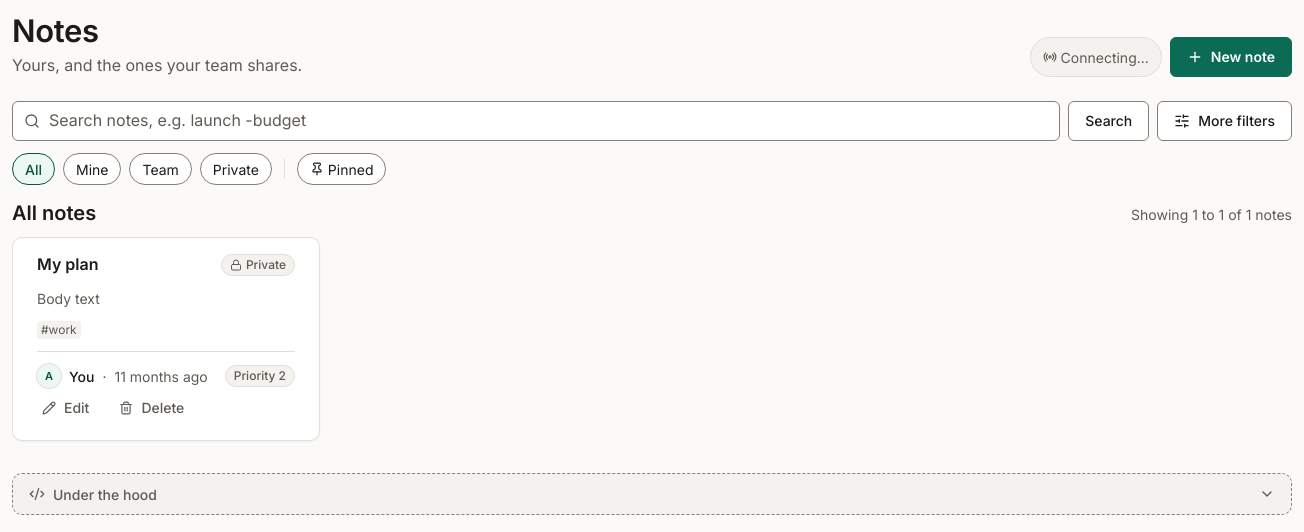
Test: NotesPage › searches with the rpc and renders the snippet safely with <mark>
Check: the heading "My plan" is shown, box [37,254,98,276]
Type "plan" into the search field named "Full-text search". click: (536, 121)
box: [12,101,1060,141]
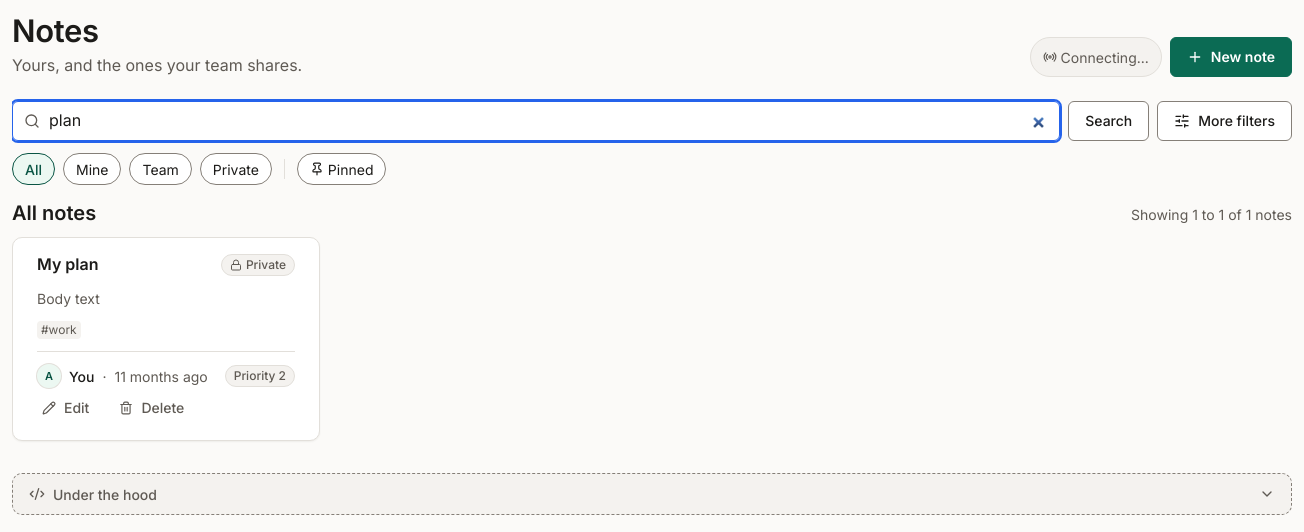
Click the button "Search". click: (1109, 121)
box: [1068,101,1149,141]
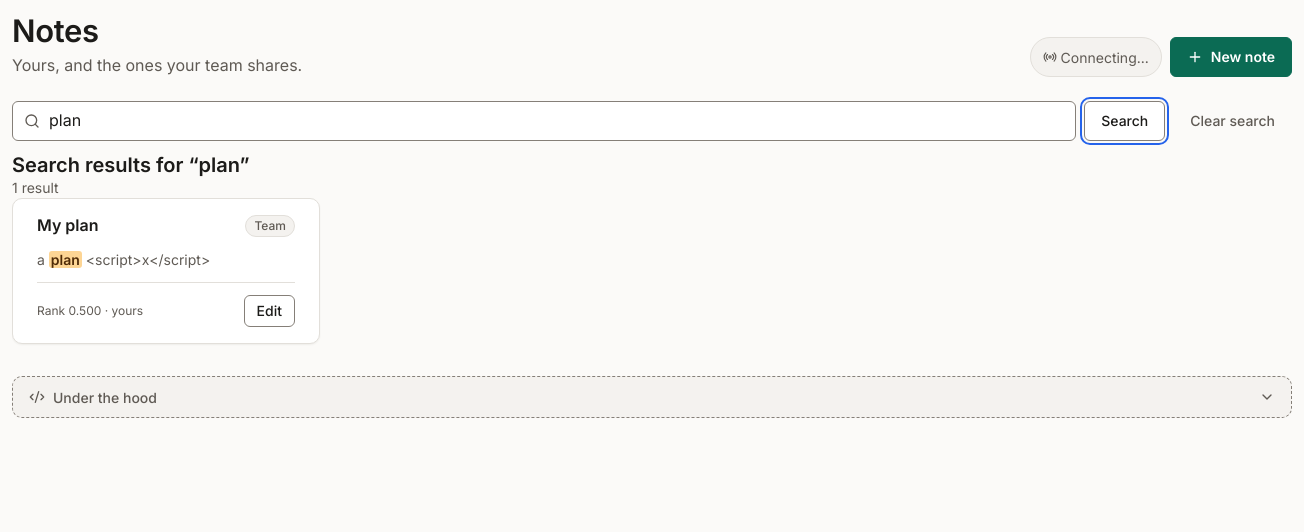
Check: the list item with test id "search-result" shows "Rank 0.500", box [12,198,320,344]
